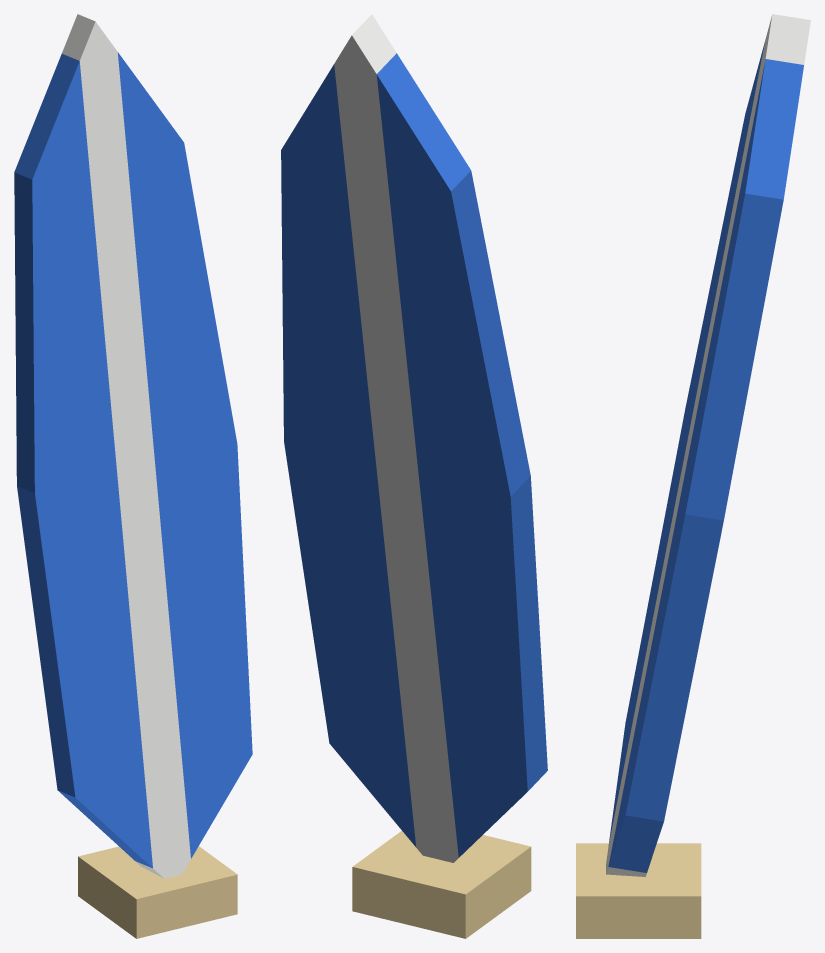
File: BlueSurfboard.fbx
3 views of the same model, side by side, from view 1: azimuth 30°, elevation 25°; view 2: azimuth 150°, elevation 25°; view 3: azimuth 270°, elevation 25° (orthographic). The views are drawn at different scales.
Parts seen in each view (by area): view 1: BlueSurfboard; view 2: BlueSurfboard; view 3: BlueSurfboard.
Boxes of the visible parts, x1=… form: BlueSurfboard: x1=14, y1=14, x2=252, y2=938; BlueSurfboard: x1=281, y1=14, x2=547, y2=938; BlueSurfboard: x1=576, y1=14, x2=810, y2=938.
Size of the model in its own units: 1.6 by 6.33 by 1.5.
1 material, 1 textured.
